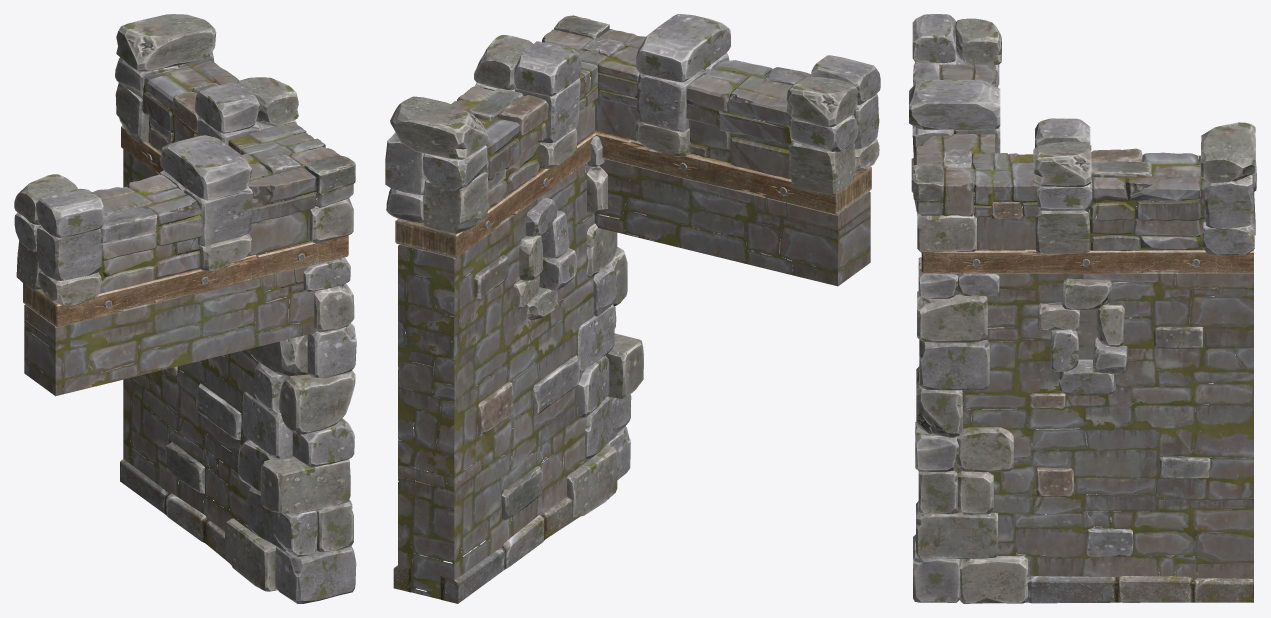
The picture shows the model from 3 angles, left to right: view 1: azimuth 30°, elevation 25°; view 2: azimuth 150°, elevation 25°; view 3: azimuth 270°, elevation 25°; orthographic projection. The views are drawn at different scales.
Visible parts, largest first — view 1: SM_Castle_Wall_Corner_4x6_01_v2_LOD0; view 2: SM_Castle_Wall_Corner_4x6_01_v2_LOD0; view 3: SM_Castle_Wall_Corner_4x6_01_v2_LOD0.
Boxes of the visible parts, x1,y1,x2,y2 form: SM_Castle_Wall_Corner_4x6_01_v2_LOD0: (14,14,356,603); SM_Castle_Wall_Corner_4x6_01_v2_LOD0: (385,14,880,603); SM_Castle_Wall_Corner_4x6_01_v2_LOD0: (909,14,1256,603).
Size of the model in its own units: 4.26 by 6.08 by 4.23.
Materials: 6 (6 with a texture image).
